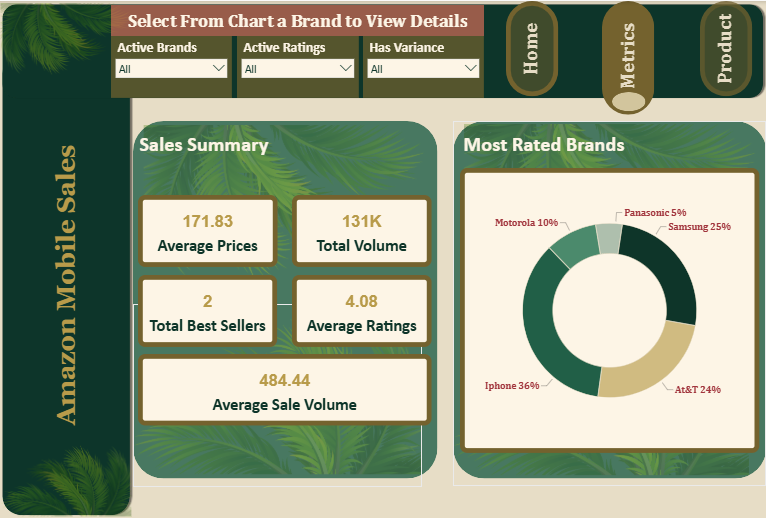

The dashboard page shown, as its layout file describes it:
{"tool":"powerbi","page":{"name":"Metrics","canvas":[1600,1080],"ordinal":1},"visuals":[{"type":"shape","box":[0,0,1600,209.3],"z":0,"group":"g4"},{"type":"shape","box":[1057.4,0,108.9,198.7],"z":0,"group":"g5"},{"type":"shape","box":[1258.2,0,108.9,237.1],"z":0,"group":"g6"},{"type":"shape","box":[1461.9,0,108.9,198.7],"z":0,"group":"g7"},{"type":"shape","title":"Amazon ","box":[0,105.2,280,975],"z":0,"group":"g3"},{"type":"group","id":"g1","title":"Border","box":[261,249.9,666.5,762.6],"z":0},{"type":"shape","box":[279.8,249.9,635,745.5],"z":0,"group":"g1"},{"type":"shape","title":"ay","box":[946.3,249.9,653.7,745.5],"z":0,"group":"g2"},{"type":"card","fields":{"Values":["_calculation.Average Price"]},"box":[289.4,403.7,290.5,149.5],"z":0,"group":"g8"},{"type":"image","box":[0,4.3,279.8,149.5],"z":1000,"group":"g4"},{"type":"actionButton","title":"Header","box":[1265.7,10,87.5,210],"z":1000,"group":"g6"},{"type":"actionButton","title":"Header","box":[1063.8,12.5,87.6,175.4],"z":1000,"group":"g5"},{"type":"actionButton","title":"Header","box":[1468.3,12.5,87.6,175.4],"z":1000,"group":"g7"},{"type":"group","id":"g2","title":"Border","box":[946.3,249.9,653.7,760.5],"z":1000},{"type":"card","fields":{"Values":["_calculation.Total Volume"]},"box":[610.1,403.7,290.5,149.5],"z":1000,"group":"g8"},{"type":"image","box":[946.3,630.1,617.4,380.2],"z":1000,"group":"g2"},{"type":"image","box":[279.8,632.3,602.4,380.2],"z":1000,"group":"g1"},{"type":"image","box":[0,926,279.3,149.1],"z":1000,"group":"g3"},{"type":"group","id":"g3","title":"Dashboard Title","box":[0,105.2,280,975],"z":2000},{"type":"actionButton","title":"Header","box":[0,109.7,280,967.5],"z":2000,"group":"g3"},{"type":"shape","box":[1278.2,190,70,40],"z":2000,"group":"g6"},{"type":"image","box":[946.3,256.3,653.7,333.2],"z":2000,"group":"g2"},{"type":"image","box":[261,258.4,666.5,320.4],"z":2000,"group":"g1"},{"type":"card","fields":{"Values":["_calculation.Average Volume"]},"box":[290,736,612,149],"z":2000,"group":"g8"},{"type":"group","id":"g4","title":"Dashboard Access","box":[0,0,1600,209.3],"z":3000},{"type":"card","fields":{"Values":["_calculation.Average Ratings"]},"box":[610.1,570.3,290.5,149.5],"z":3000,"group":"g8"},{"type":"group","id":"g5","title":"Bn: Home Page Button","box":[1057.4,0,108.9,198.7],"z":4000},{"type":"card","fields":{"Values":["_calculation.Total Best Sellers"]},"box":[289.9,570.3,290,149.5],"z":4000,"group":"g8"},{"type":"group","id":"g6","title":"Bn: Sales Page Button","box":[1258.2,0,108.9,237.1],"z":5000},{"type":"group","id":"g7","title":"Bn: Product Page Button","box":[1461.9,0,108.9,198.7],"z":6000},{"type":"donutChart","fields":{"Y":["_calculation.Total Rating"],"Category":["phone search.brand_name"]},"box":[961.3,348.2,623.8,593.9],"z":7000},{"type":"group","id":"g8","title":"Metrics","box":[289.4,403.7,612.6,481.3],"z":8000},{"type":"textbox","box":[963.4,267,602.4,81.2],"z":9000},{"type":"textbox","box":[288.4,267,602.4,81.2],"z":10000},{"type":"slicer","fields":{"Values":["phone search.brand_name"]},"box":[233.5,73,252.3,129.3],"z":11000},{"type":"slicer","fields":{"Values":["phone search.product_star_rating"]},"box":[496.2,73,254.4,129.3],"z":12000},{"type":"slicer","fields":{"Values":["phone search.has_variations"]},"box":[758.9,73,252.3,129.3],"z":13000},{"type":"shape","box":[233.5,8.3,777.7,64.6],"z":14000}]}

Visuals, with their boxes in screenshot pixels (x1, y1, x2, y2), scaled from the page's 1600x1080 canvas onto the 766x518 screenshot:
shape: left=0, top=0, right=765, bottom=100
shape: left=506, top=0, right=558, bottom=95
shape: left=602, top=0, right=654, bottom=114
shape: left=700, top=0, right=752, bottom=95
"Amazon " shape: left=0, top=50, right=134, bottom=517
"Border" group: left=125, top=120, right=444, bottom=486
shape: left=134, top=120, right=438, bottom=477
"ay" shape: left=453, top=120, right=765, bottom=477
card - _calculation.Average Price: left=139, top=194, right=278, bottom=265
image: left=0, top=2, right=134, bottom=74
"Header" actionButton: left=606, top=5, right=648, bottom=106
"Header" actionButton: left=509, top=6, right=551, bottom=90
"Header" actionButton: left=703, top=6, right=745, bottom=90
"Border" group: left=453, top=120, right=765, bottom=485
card - _calculation.Total Volume: left=292, top=194, right=431, bottom=265
image: left=453, top=302, right=749, bottom=485
image: left=134, top=303, right=422, bottom=486
image: left=0, top=444, right=134, bottom=516
"Dashboard Title" group: left=0, top=50, right=134, bottom=517
"Header" actionButton: left=0, top=53, right=134, bottom=517
shape: left=612, top=91, right=645, bottom=110
image: left=453, top=123, right=765, bottom=283
image: left=125, top=124, right=444, bottom=278
card - _calculation.Average Volume: left=139, top=353, right=432, bottom=424
"Dashboard Access" group: left=0, top=0, right=765, bottom=100
card - _calculation.Average Ratings: left=292, top=274, right=431, bottom=345
"Bn: Home Page Button" group: left=506, top=0, right=558, bottom=95
card - _calculation.Total Best Sellers: left=139, top=274, right=278, bottom=345
"Bn: Sales Page Button" group: left=602, top=0, right=654, bottom=114
"Bn: Product Page Button" group: left=700, top=0, right=752, bottom=95
donutChart - _calculation.Total Rating x phone search.brand_name: left=460, top=167, right=759, bottom=452
"Metrics" group: left=139, top=194, right=432, bottom=424
textbox: left=461, top=128, right=750, bottom=167
textbox: left=138, top=128, right=426, bottom=167
slicer - phone search.brand_name: left=112, top=35, right=233, bottom=97
slicer - phone search.product_star_rating: left=238, top=35, right=359, bottom=97
slicer - phone search.has_variations: left=363, top=35, right=484, bottom=97
shape: left=112, top=4, right=484, bottom=35
